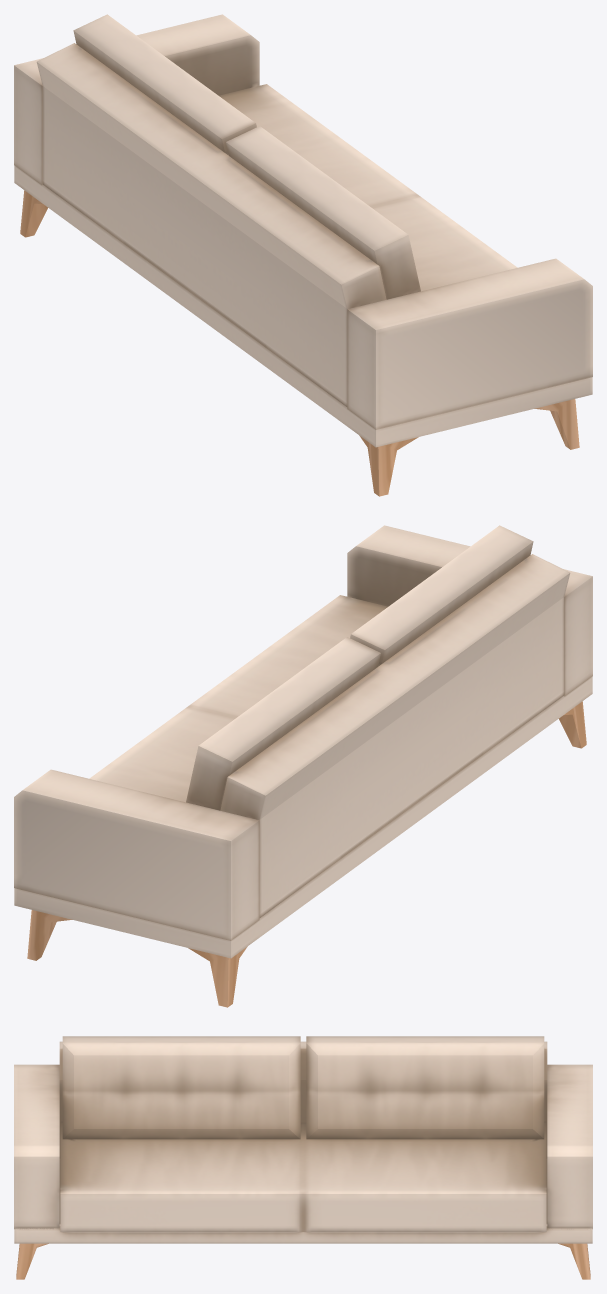
Rendered from sofa1.glb.
The picture shows the model from 3 angles, top to bottom: view 1: azimuth 30°, elevation 25°; view 2: azimuth 150°, elevation 25°; view 3: azimuth 270°, elevation 25°; orthographic projection. The views are drawn at different scales.
Parts seen in each view (by area): view 1: Cube.014_17; view 2: Cube.014_17; view 3: Cube.014_17.
Boxes of the visible parts, bbox=[...] form: Cube.014_17: bbox=[14, 14, 592, 496]; Cube.014_17: bbox=[14, 525, 592, 1007]; Cube.014_17: bbox=[14, 1036, 592, 1279].
Size of the model in its own units: 0.7194 by 0.6774 by 1.96.
Materials: 1 (1 with a texture image).
